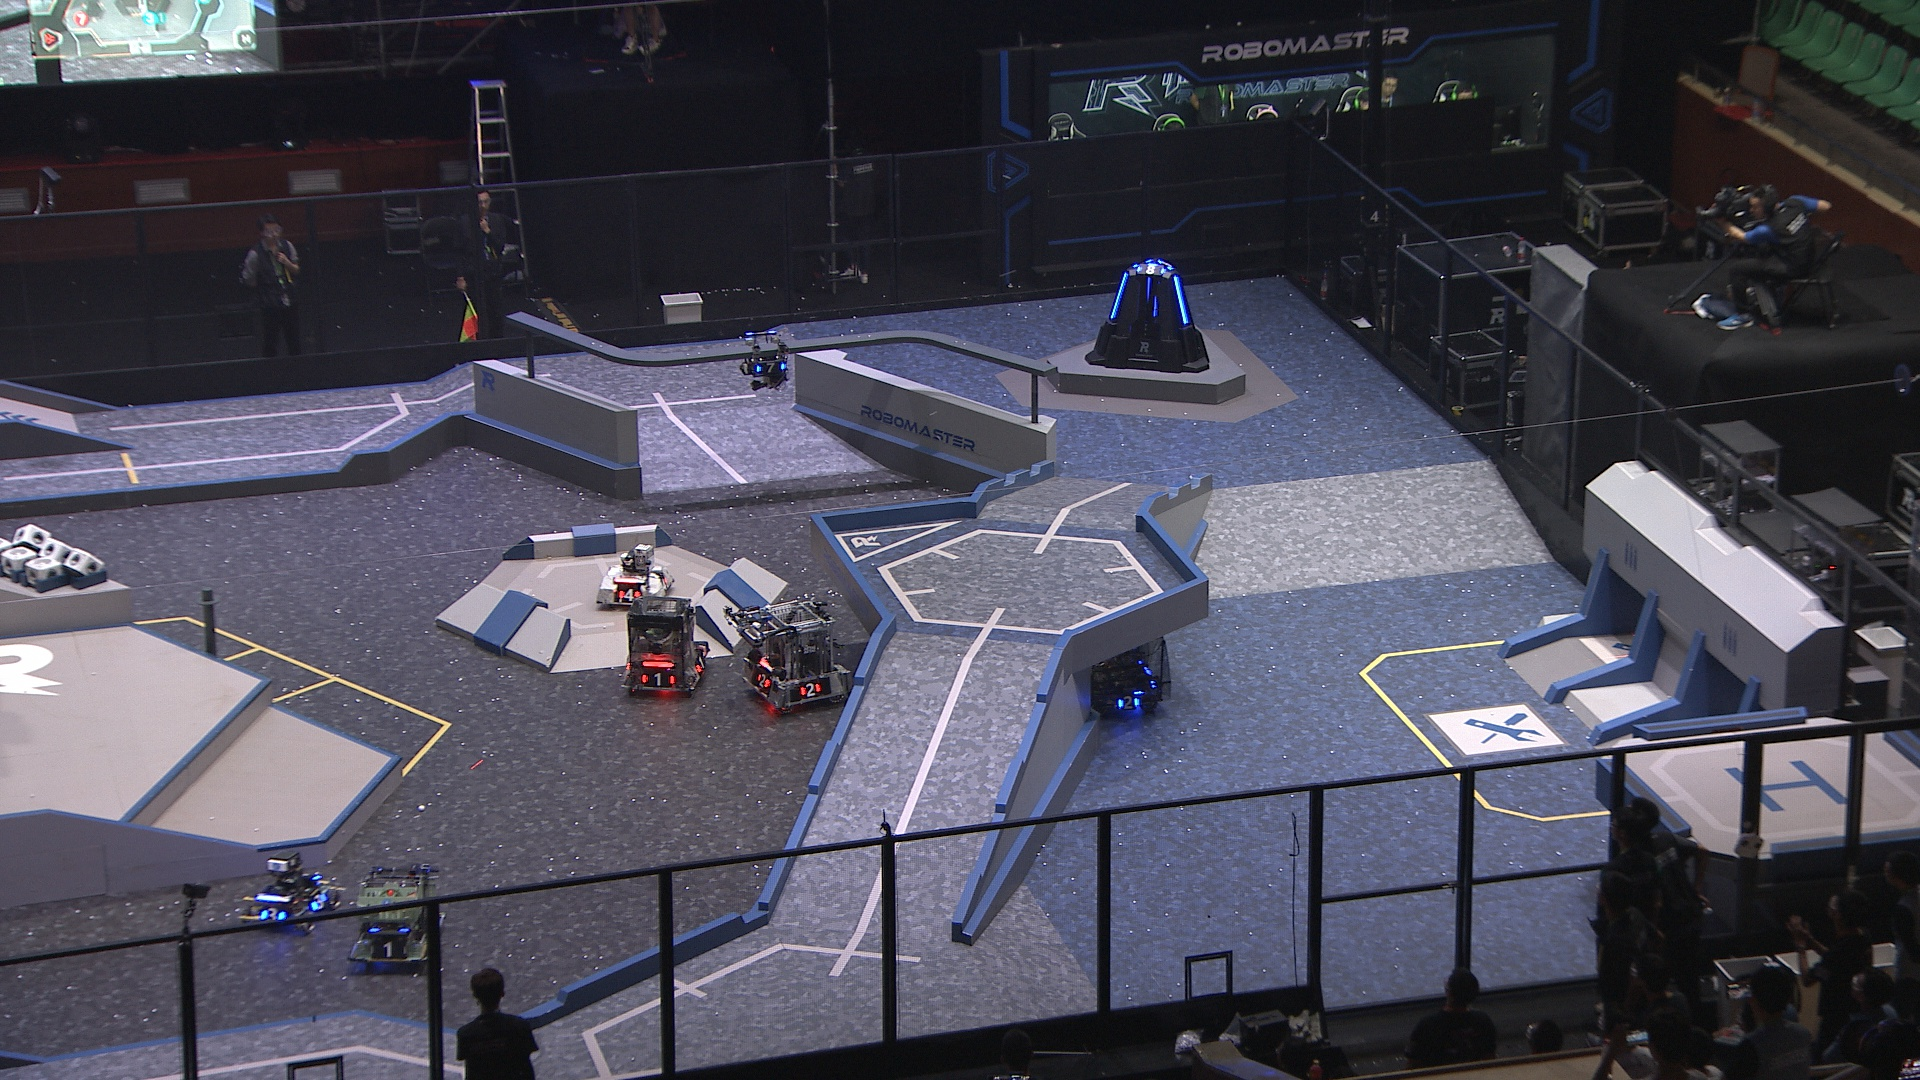armor: (1109, 272, 1130, 320), (1174, 276, 1191, 327), (368, 942, 410, 960), (641, 671, 678, 688), (1116, 694, 1143, 713), (257, 907, 289, 924), (1135, 262, 1168, 277), (754, 363, 789, 376), (799, 680, 822, 699), (756, 671, 774, 692), (618, 588, 642, 603), (311, 893, 328, 911), (1150, 295, 1162, 322), (694, 654, 708, 673), (1145, 276, 1153, 305)
base: (1084, 261, 1215, 376)
car: (731, 597, 847, 713), (1069, 613, 1174, 717), (347, 865, 448, 971), (618, 595, 713, 694), (240, 851, 343, 935), (596, 545, 674, 612)
watcher: (740, 330, 790, 392)
